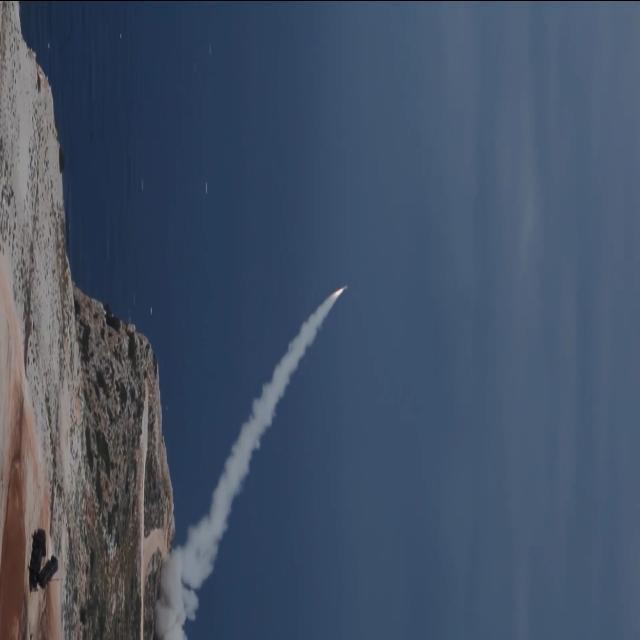missile: (339, 283, 349, 295)
